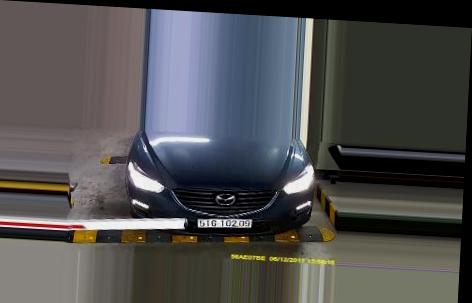License_Plate: (196, 213, 255, 230)
